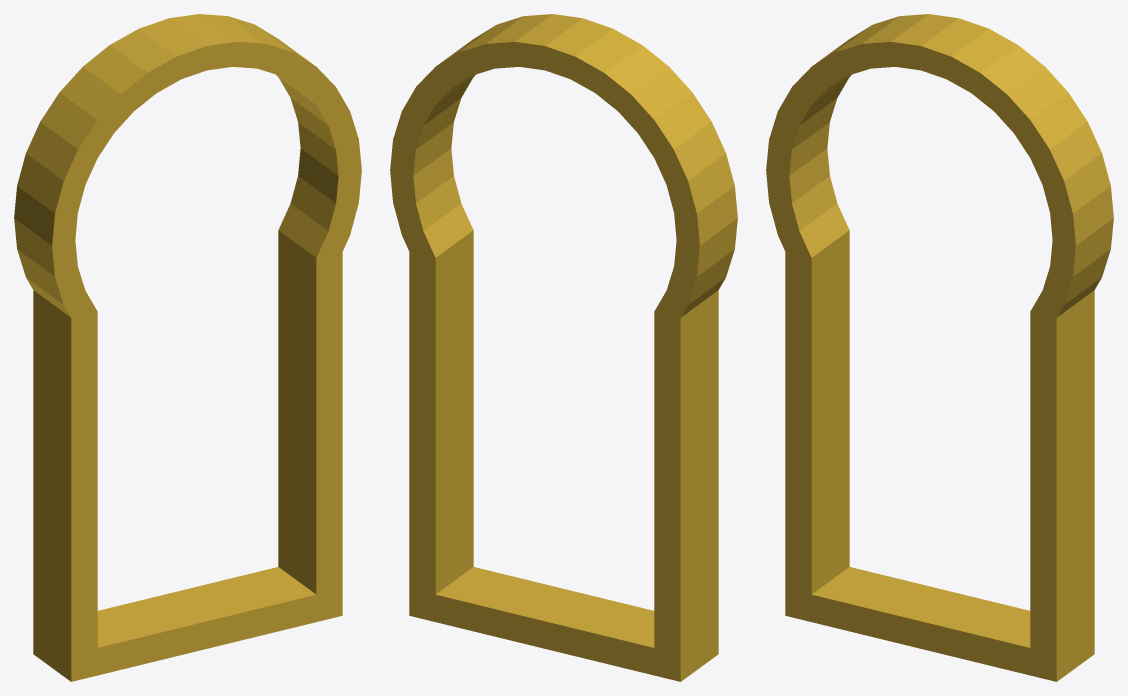
Rendered from exit-doorway.glb.
The picture shows the model from 3 angles, left to right: view 1: azimuth 30°, elevation 25°; view 2: azimuth 150°, elevation 25°; view 3: azimuth 330°, elevation 25°; orthographic projection.
Parts seen in each view (by area): view 1: Cube; view 2: Cube; view 3: Cube.
Part boxes in pixels (x1,y1,x2,y2): Cube: (14, 14, 361, 681); Cube: (390, 14, 737, 681); Cube: (766, 14, 1113, 681).
Size of the model in its own units: 2.35 by 4.38 by 0.5.
